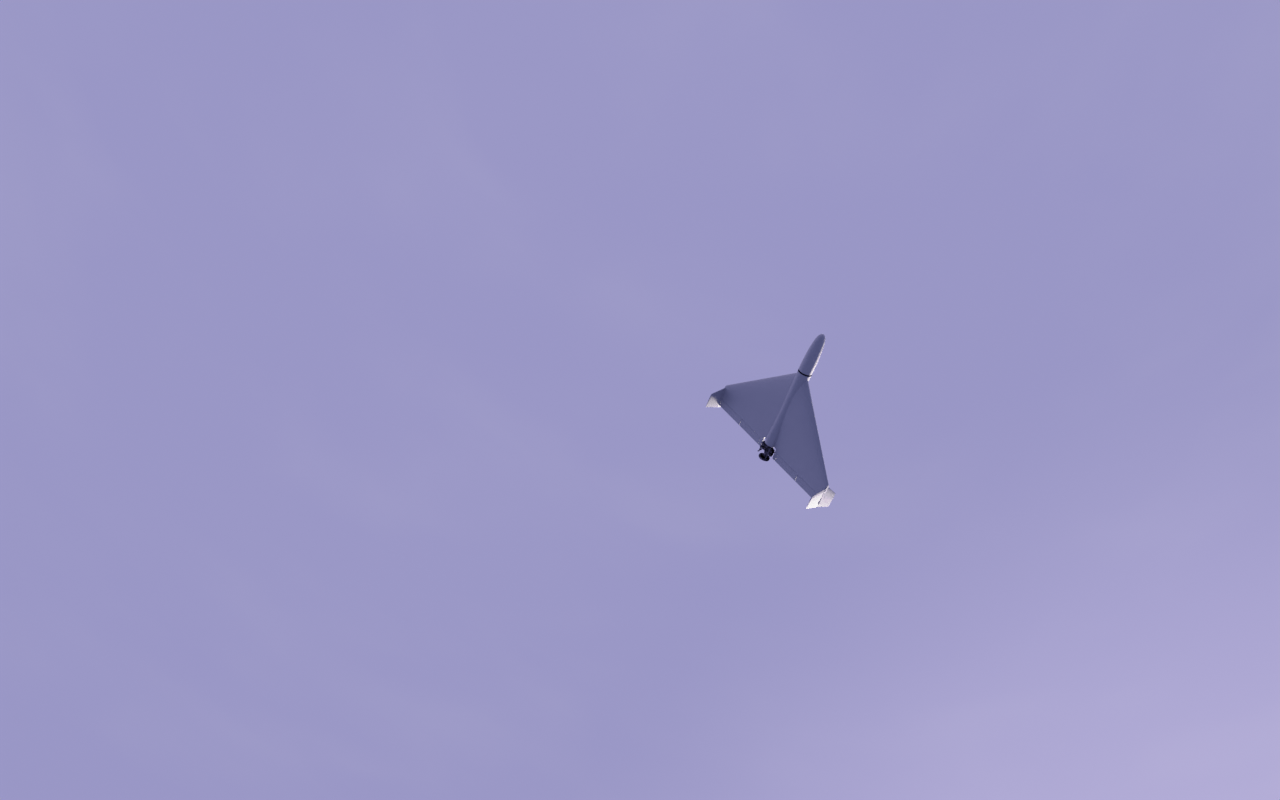shahed: (706, 334, 837, 511)
